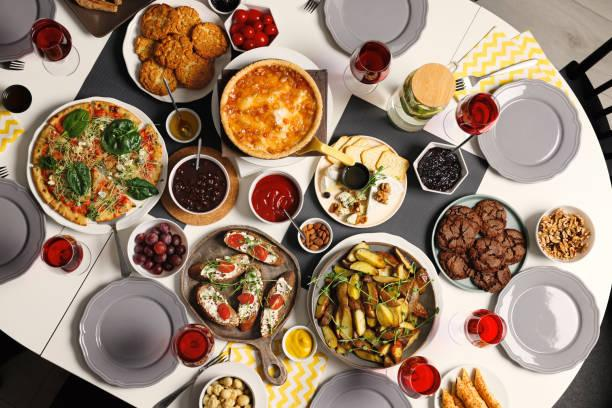Braised Crucian Carp: (25, 96, 165, 232), (179, 225, 299, 381), (304, 233, 439, 369), (213, 45, 321, 164), (121, 0, 228, 102), (432, 195, 527, 291), (311, 134, 405, 228)
